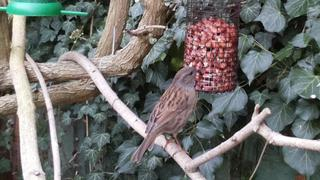dunnock: (130, 65, 203, 164)
